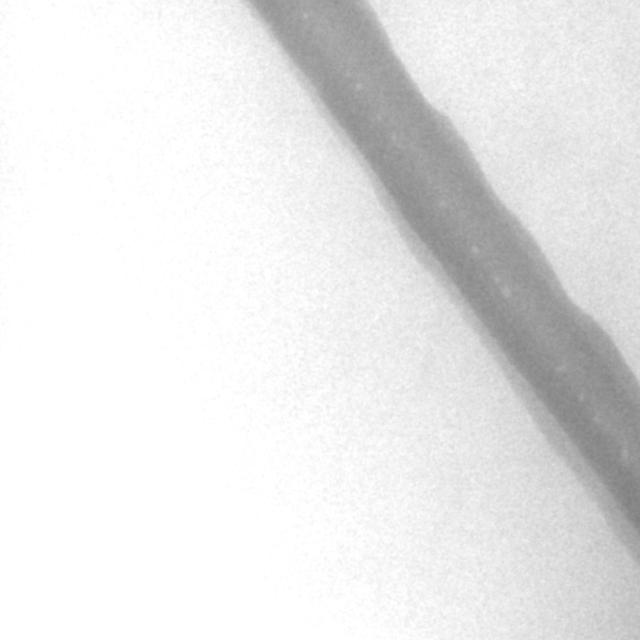air hole: (618, 447, 630, 463), (298, 8, 310, 24), (500, 284, 512, 300), (469, 240, 480, 255), (576, 389, 586, 403), (354, 81, 363, 94)
